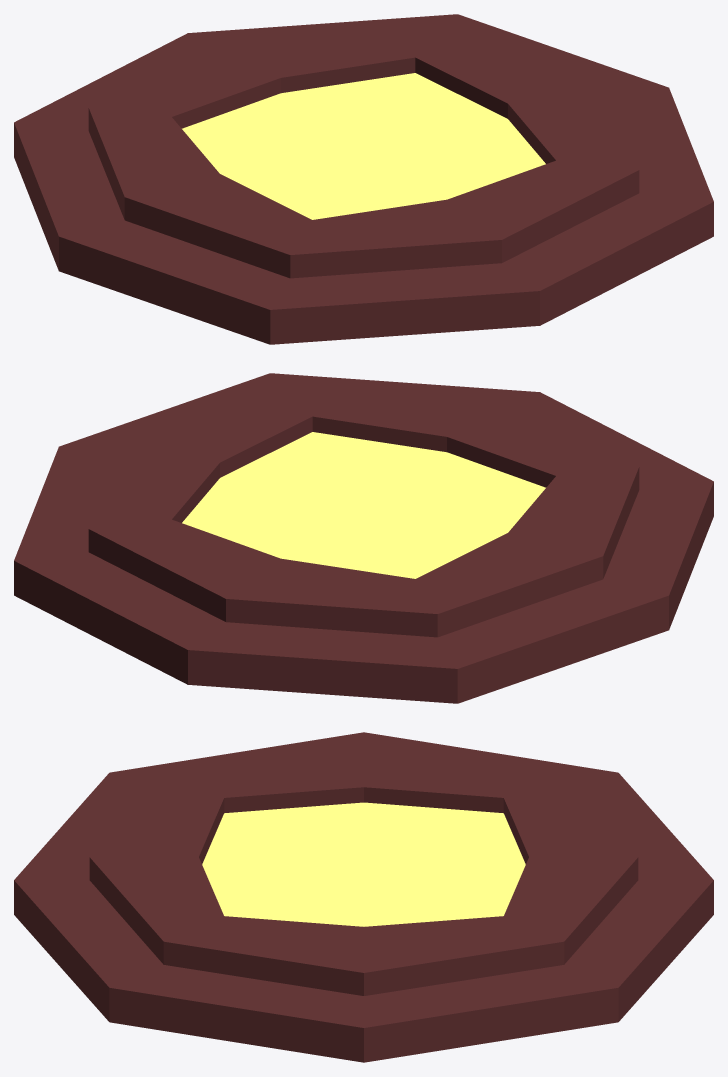
The model's file is GlyphRaider_keycube_drop.glb.
3 renders of one model, top to bottom at view 1: azimuth 30°, elevation 25°; view 2: azimuth 150°, elevation 25°; view 3: azimuth 270°, elevation 25°, orthographic.
Parts seen in each view (by area): view 1: Drop_point-col; view 2: Drop_point-col; view 3: Drop_point-col.
Part boxes in pixels (<box>): Drop_point-col: <box>14,14,713,344</box>; Drop_point-col: <box>14,373,713,703</box>; Drop_point-col: <box>14,732,713,1062</box>.
Size of the model in its own units: 1.83 by 0.1669 by 1.83.
